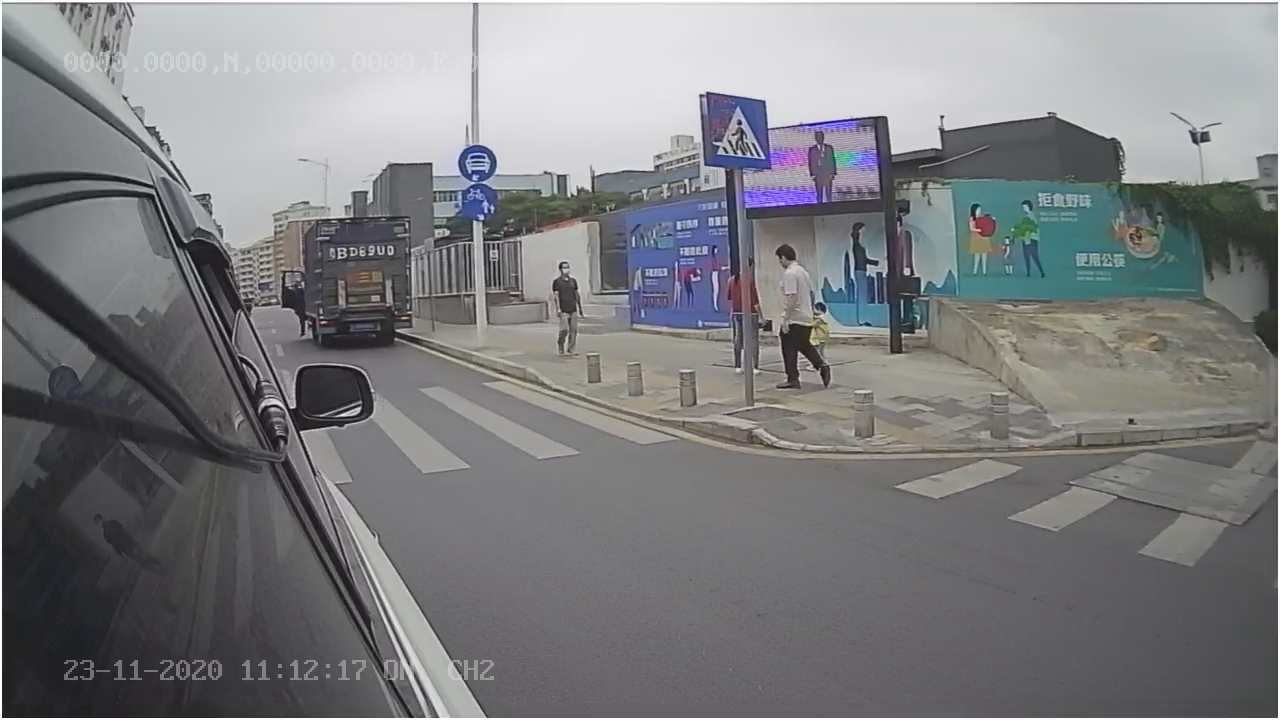person: (768, 244, 849, 395)
